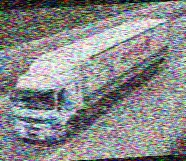truck: (3, 17, 180, 148)
